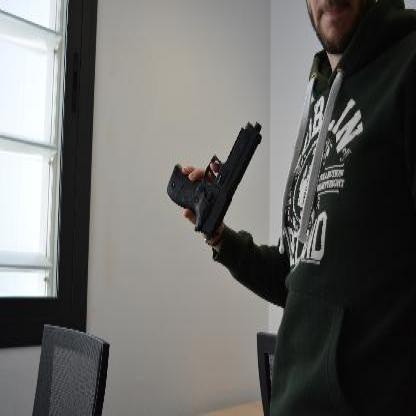pistol: (166, 118, 262, 241)
